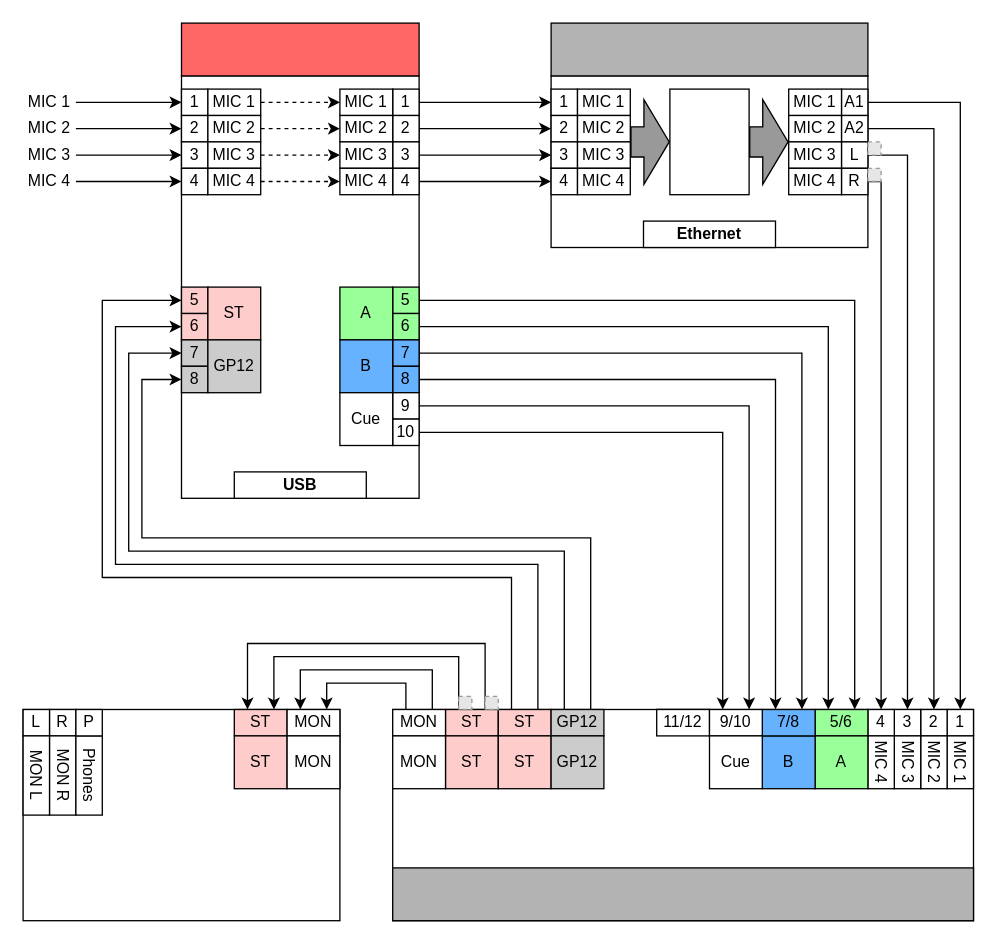
Image size: 997x944. Some labels were removed from this diagram. Grey dashed boxes stand in for pictures. Each missing label, with the box of its shape:
Behringer XR-12: (550, 22, 868, 76)
Focusrite Scarlett 18i20: (180, 22, 419, 76)
Gate EQ Comp. De-ess: (669, 88, 749, 195)
Mixing console (Yamaha MG-124C): (391, 867, 974, 921)
